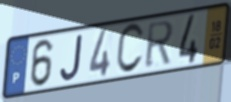4: (88, 27, 112, 80), (177, 12, 199, 67)
6: (28, 37, 56, 89)
C: (114, 21, 146, 76)
J: (59, 32, 85, 83)
R: (144, 19, 176, 71)
